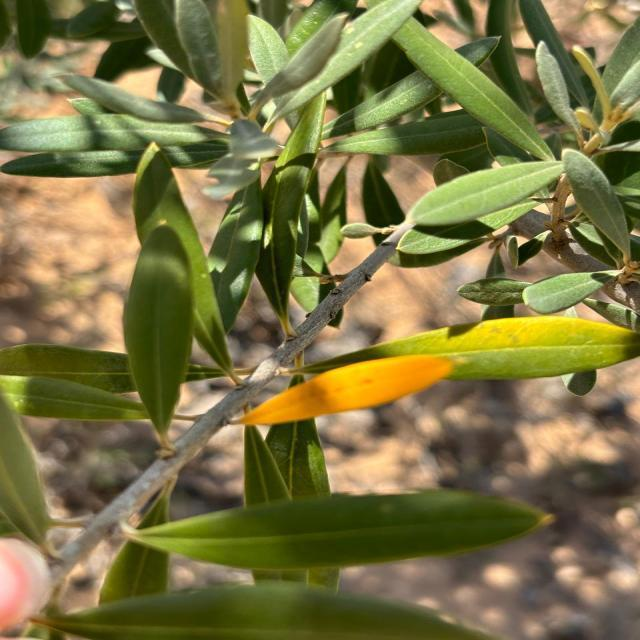OlivePeacockSpot: (316, 316, 640, 379), (228, 355, 454, 425)
